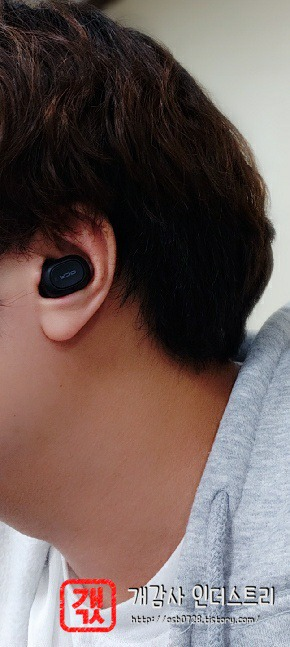earphone: (23, 202, 115, 343)
